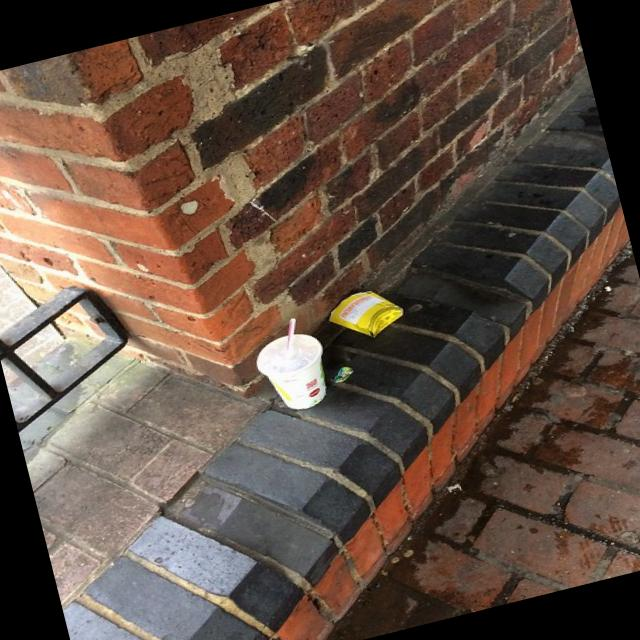Recycle: (255, 313, 333, 416)
Trash: (330, 284, 408, 344), (275, 311, 305, 360)
